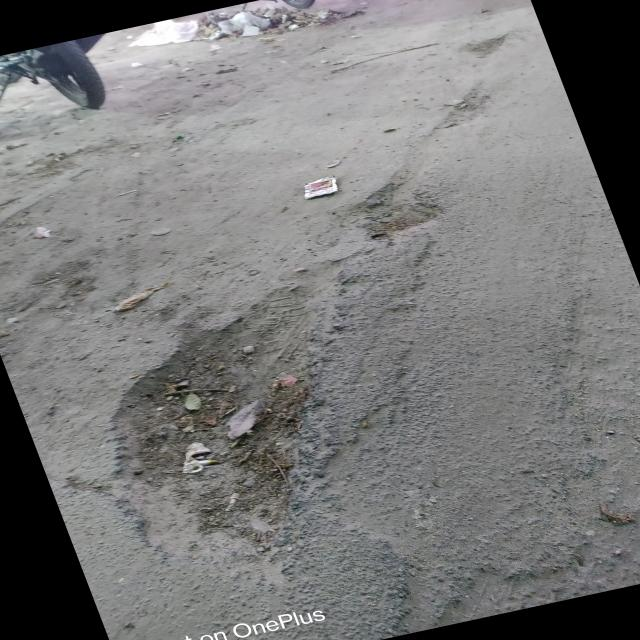potholes: (109, 181, 529, 530)
